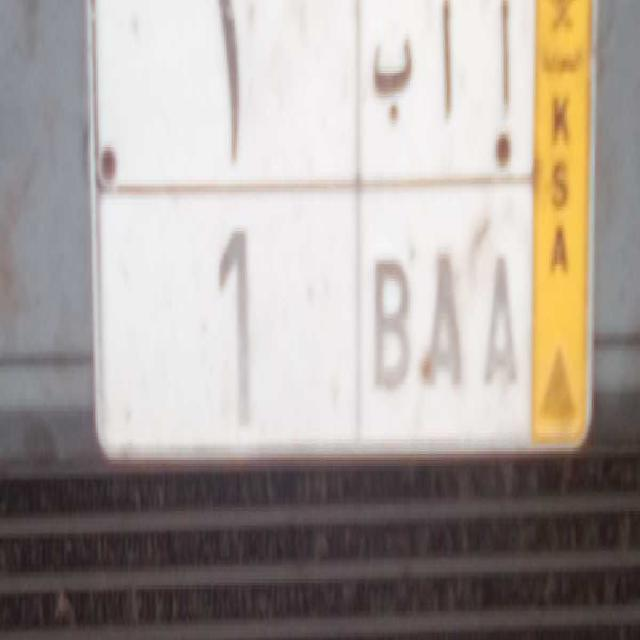license_plate: (98, 172, 534, 454)
